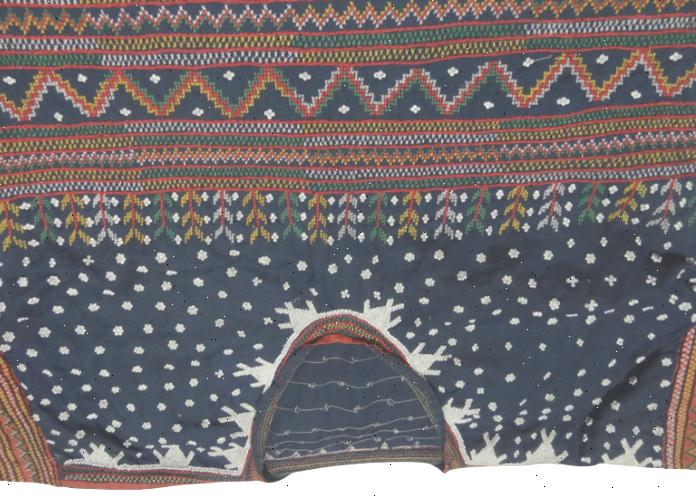malong: (0, 0, 689, 496)
